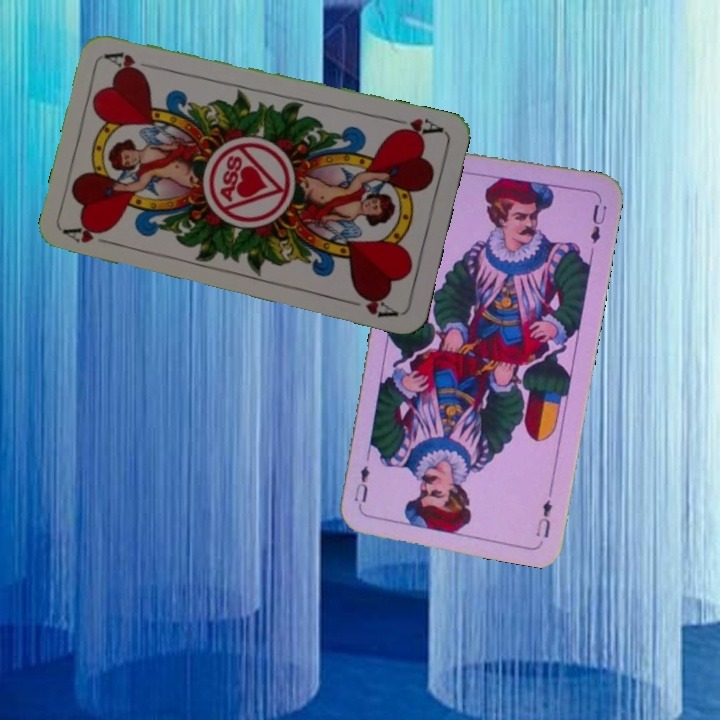EU: (532, 496, 555, 541)
HA: (386, 113, 445, 141), (61, 223, 120, 248)
